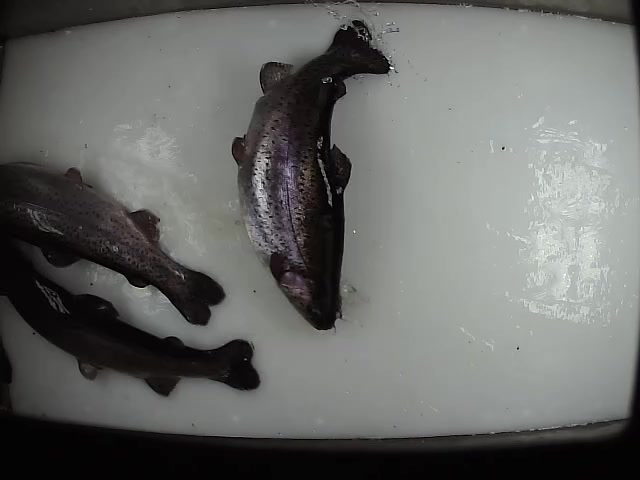fish: (231, 17, 393, 333), (1, 243, 261, 400), (1, 160, 227, 328)
